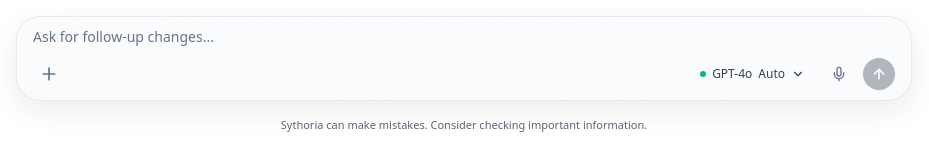
InputBar › tracks visual editor emptiness from the parsed draft
The width and height of the screenshot is (929, 141).
Expected: the text "Ask for follow-up changes..." is shown, [33, 27, 214, 46]
Type "w" into the field named "Message" at (464,37), box [33, 27, 895, 48]
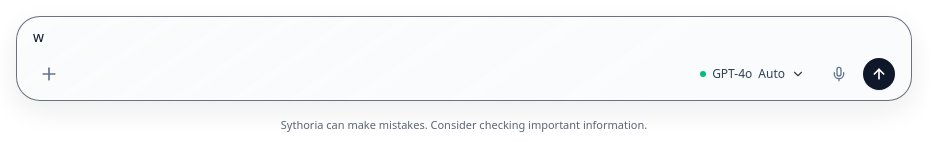
Expected: the text "Ask for follow-up changes..." is gone
Press Backspace
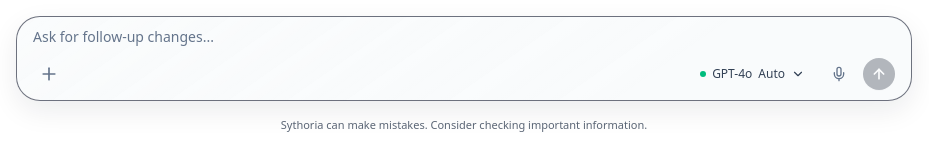
Expected: the text "Ask for follow-up changes..." is shown, [33, 27, 214, 46]
